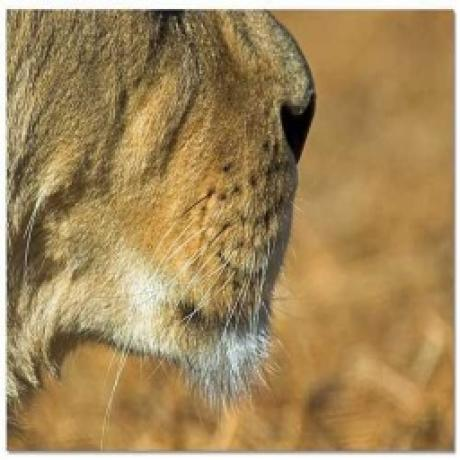Lion: (6, 5, 314, 408)
